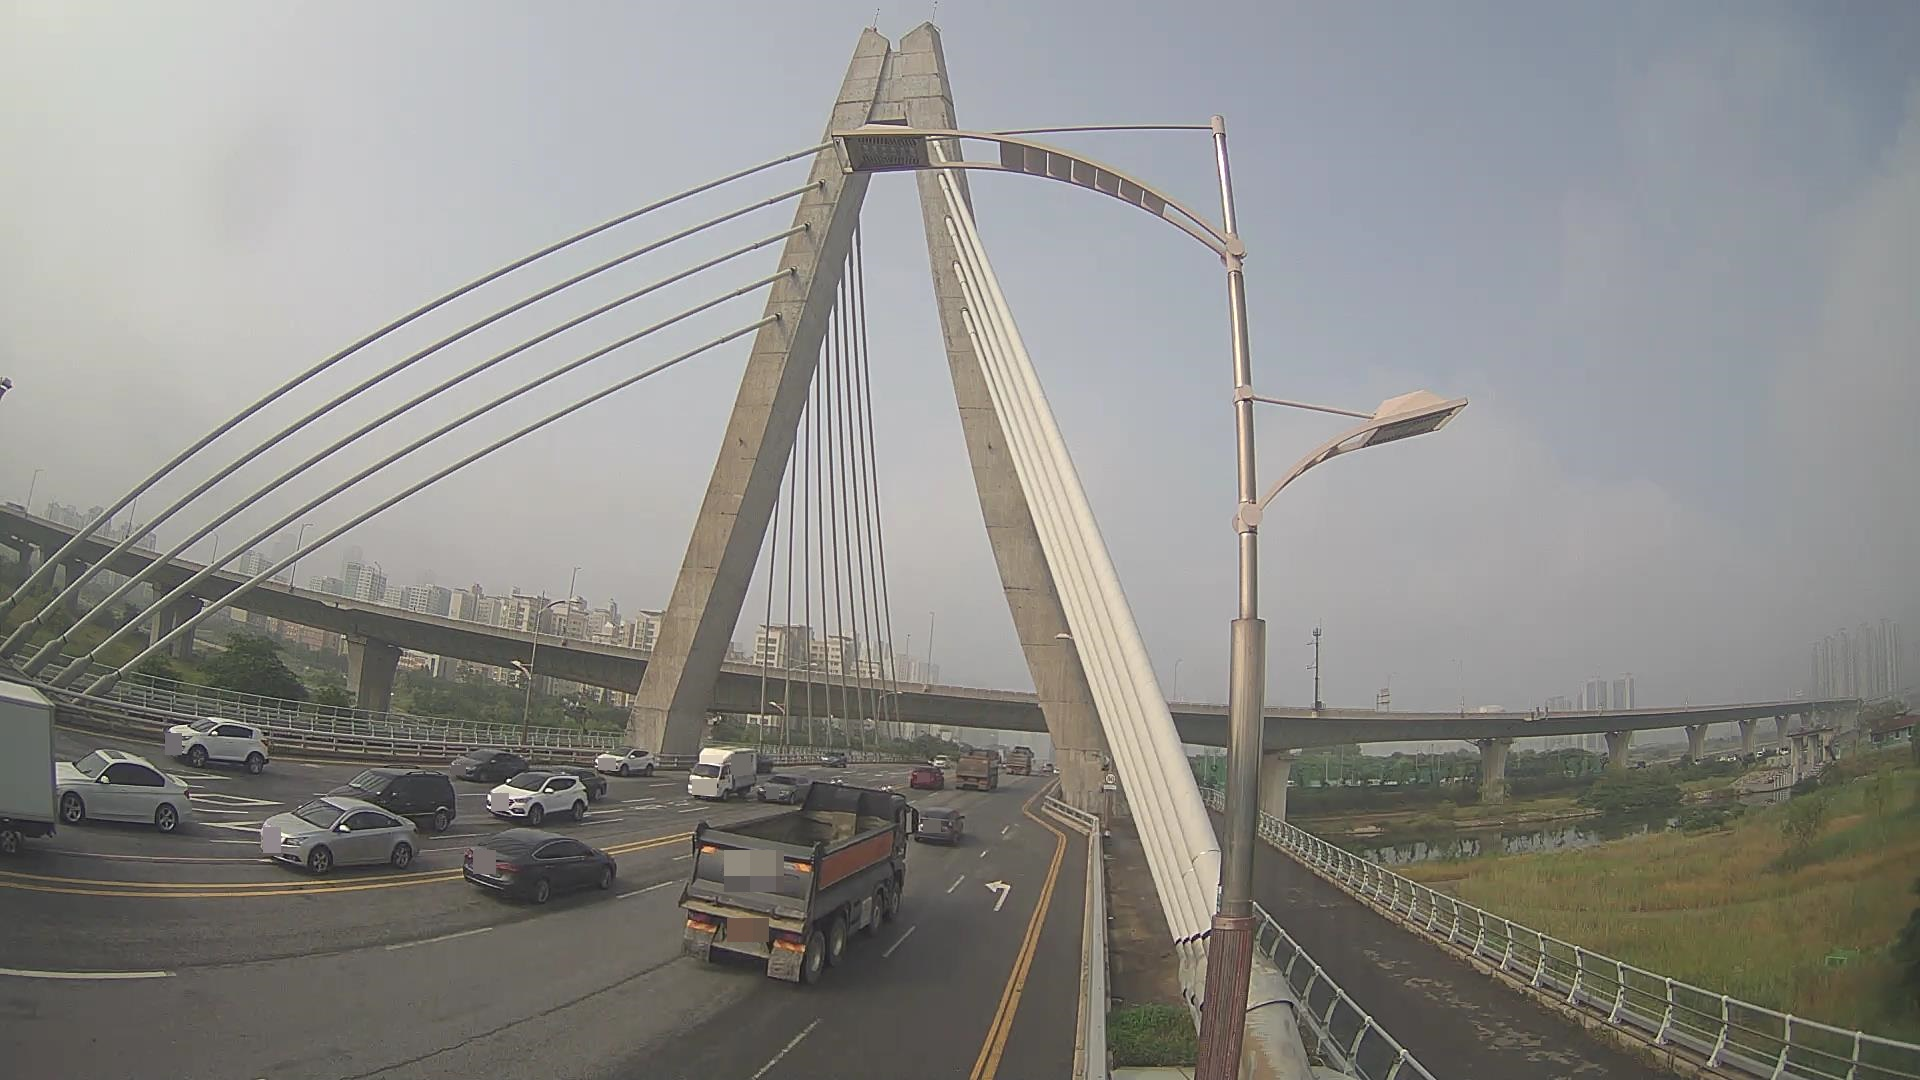정상차량: (677, 777, 925, 987)
